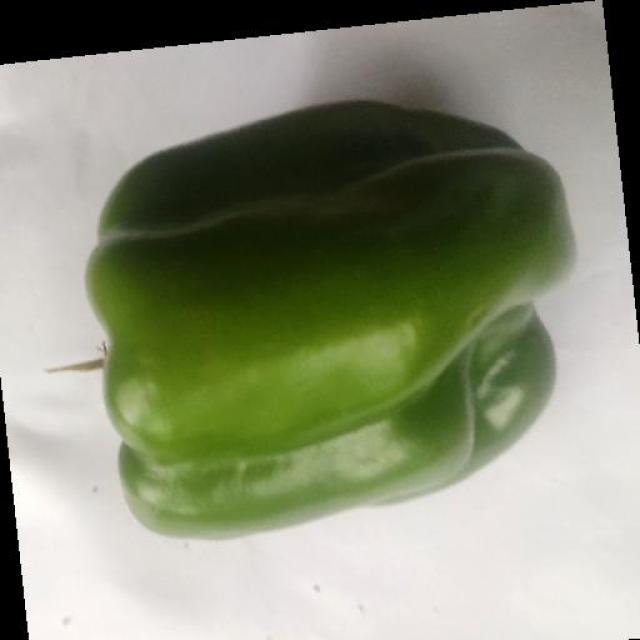Stale_Capsicum: (130, 134, 522, 262)
